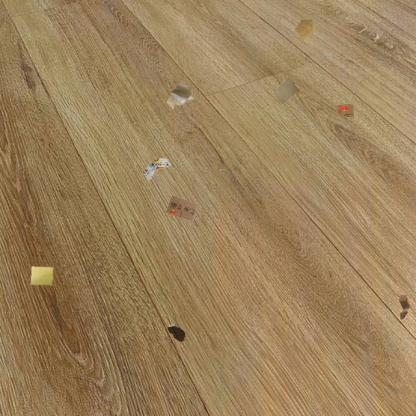dirty: (164, 80, 197, 112), (164, 194, 198, 222), (140, 155, 173, 183), (271, 76, 301, 106), (29, 264, 55, 288), (397, 292, 412, 322), (333, 101, 357, 119)
liquid: (293, 18, 316, 44), (166, 323, 186, 344)
